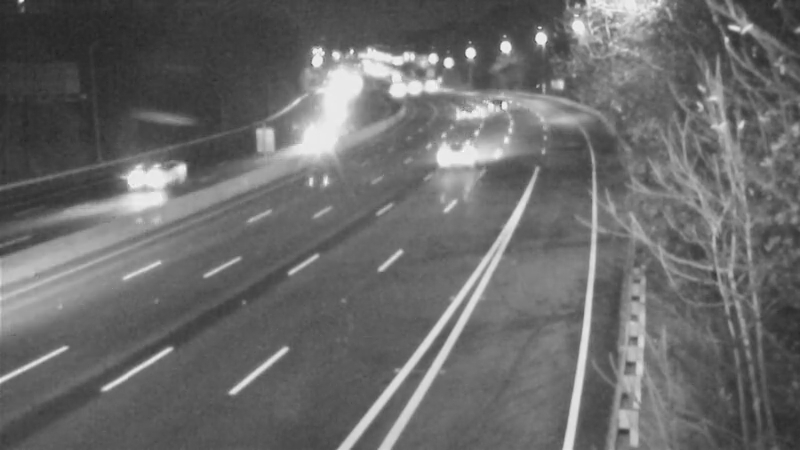vehicle: (420, 115, 500, 195), (102, 137, 182, 217), (371, 63, 421, 113), (471, 81, 521, 131), (441, 86, 491, 136), (286, 114, 336, 164)
